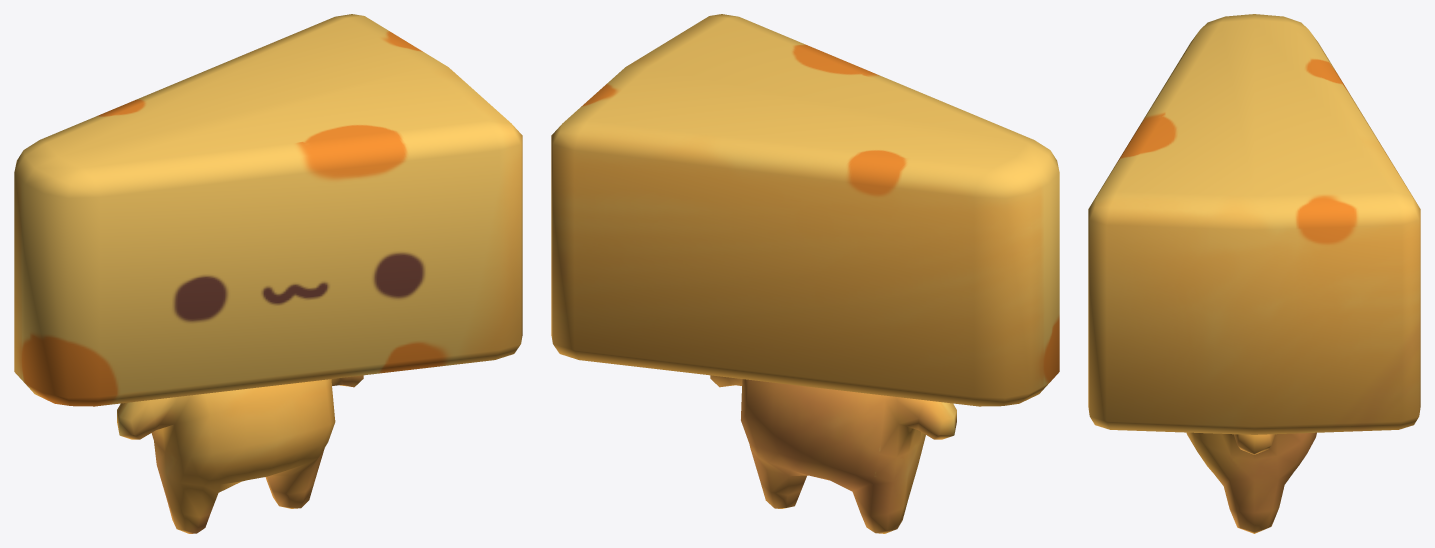
Rendered from cheese.glb.
The picture shows the model from 3 angles, left to right: view 1: azimuth 30°, elevation 25°; view 2: azimuth 150°, elevation 25°; view 3: azimuth 270°, elevation 25°; orthographic projection.
Visible parts, largest first — view 1: cheese_1; view 2: cheese_1; view 3: cheese_1.
Part boxes in pixels (x1=…): cheese_1: x1=14, y1=14, x2=522, y2=533; cheese_1: x1=551, y1=14, x2=1059, y2=533; cheese_1: x1=1088, y1=14, x2=1420, y2=533.
Size of the model in its own units: 1.61 by 1.46 by 1.09.
1 material, 1 textured.
